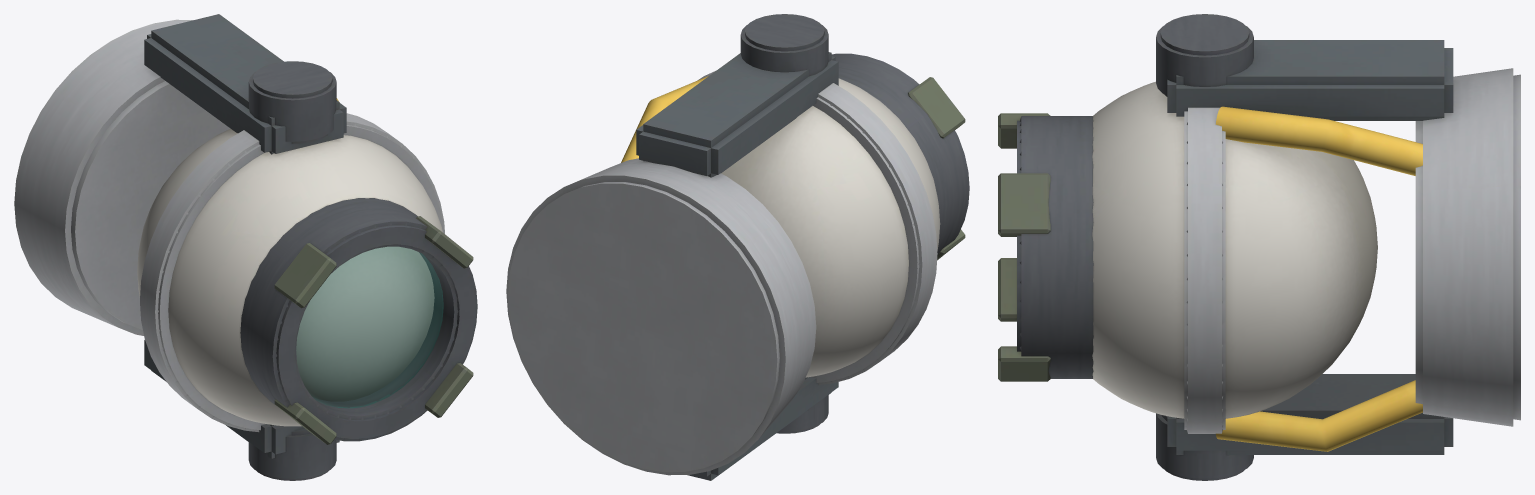
File: att_gimbal_laser.glb
3 views of the same model, side by side, from view 1: azimuth 30°, elevation 25°; view 2: azimuth 150°, elevation 25°; view 3: azimuth 270°, elevation 25° (orthographic). The views are drawn at different scales.
Parts seen in each view (by area): view 1: TEX_Gimbal_Laser_Mesh, GimbalLaser_Lens_Glass.001; view 2: TEX_Gimbal_Laser_Mesh; view 3: TEX_Gimbal_Laser_Mesh.
Boxes of the visible parts, left/top/right/bottom form: TEX_Gimbal_Laser_Mesh: left=14, top=14, right=477, bottom=480; GimbalLaser_Lens_Glass.001: left=296, top=247, right=443, bottom=408; TEX_Gimbal_Laser_Mesh: left=506, top=14, right=969, bottom=480; TEX_Gimbal_Laser_Mesh: left=998, top=14, right=1520, bottom=480.
Size of the model in its own units: 0.496 by 0.63 by 0.695.
Materials: 2 (1 with a texture image).
